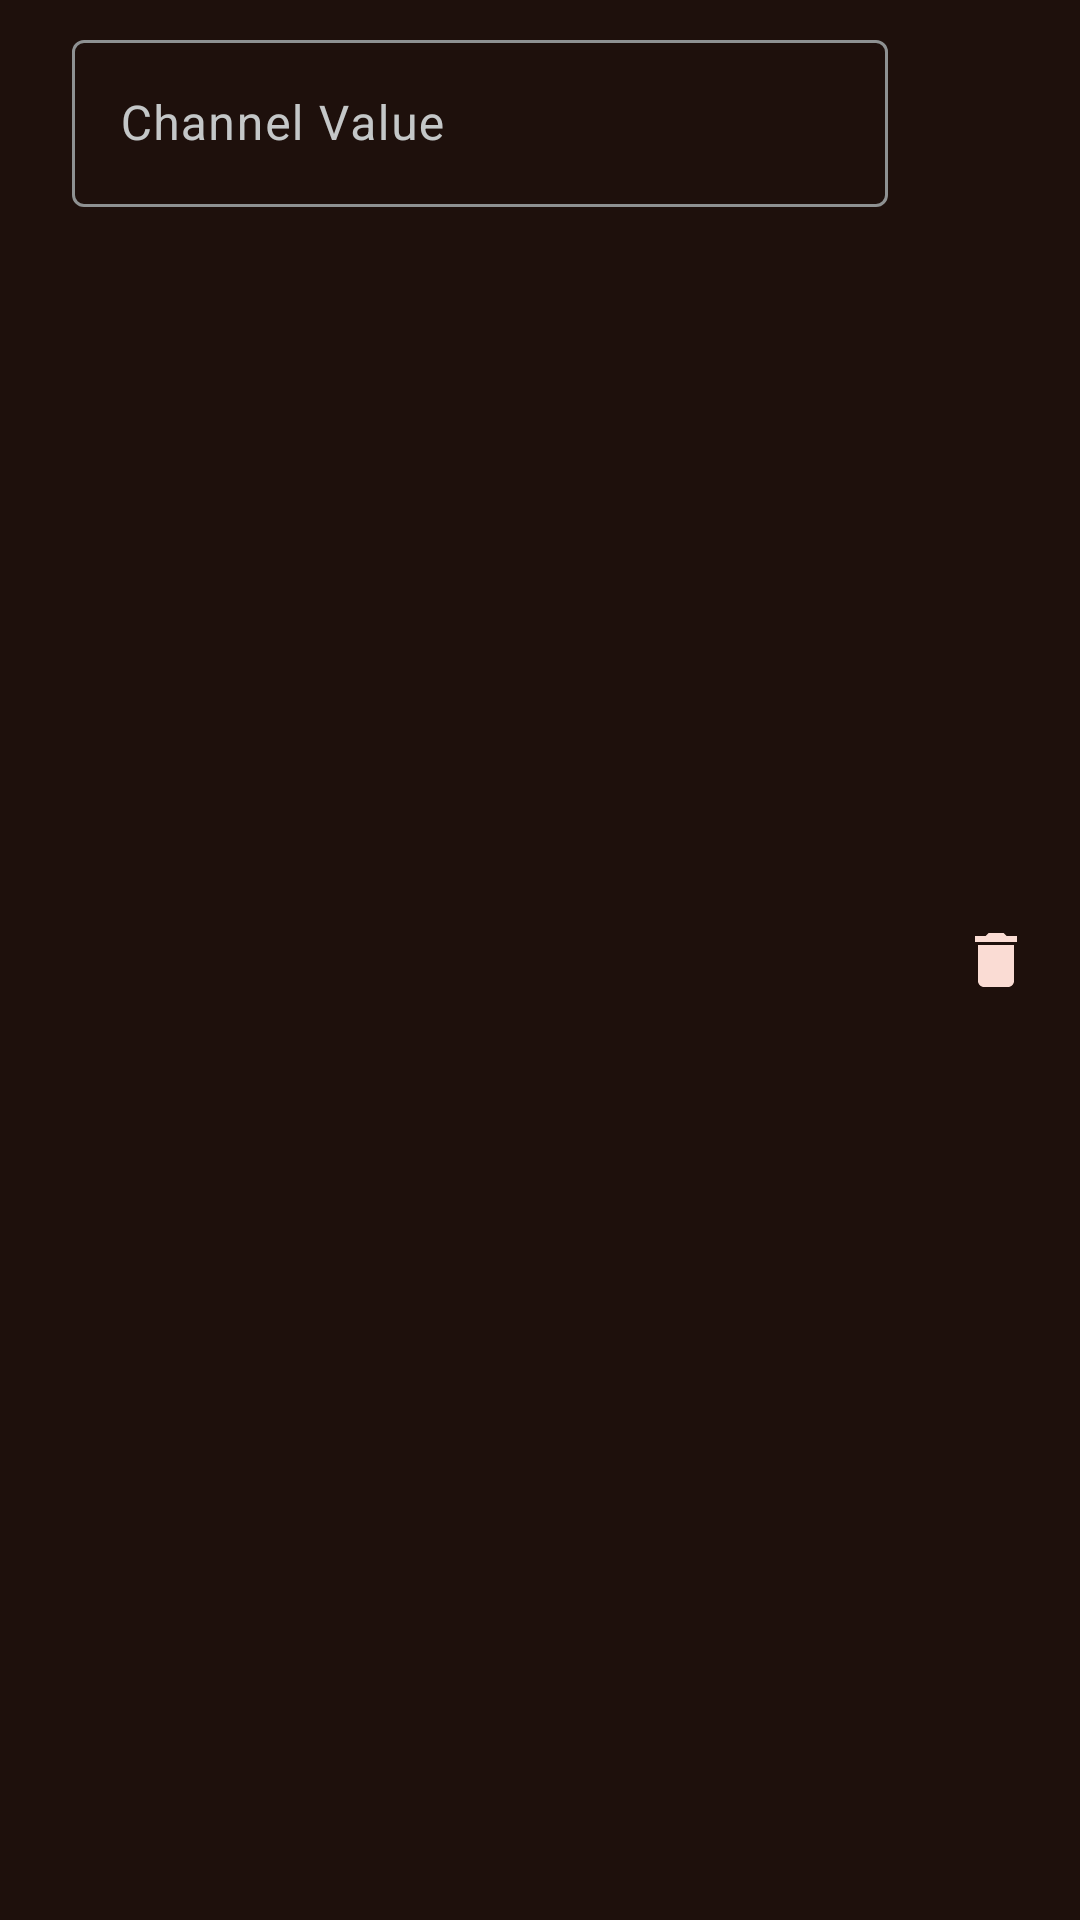

Icon bounding boxes for this 1080x1920 phone screenshot, format (x1=x1, y1=y1, x2=x2, y2=y2):
Remove item from values list: (x1=975, y1=933, x2=1017, y2=987)
